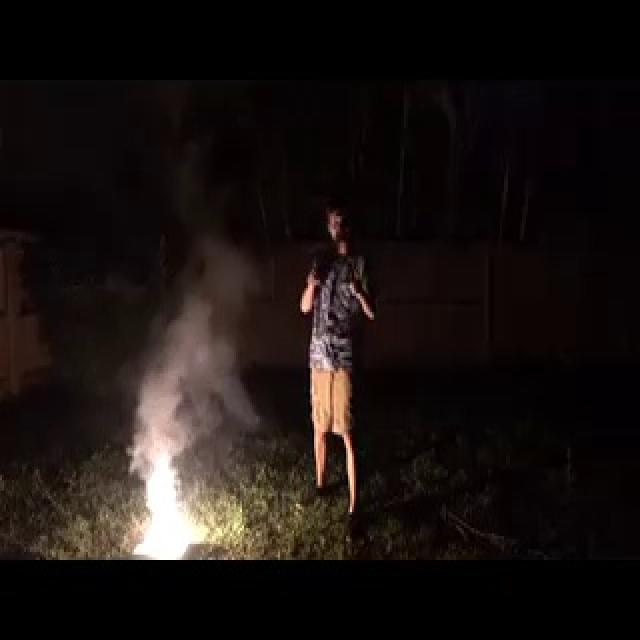Fire: (125, 450, 197, 560)
Smoke: (125, 241, 274, 417)
